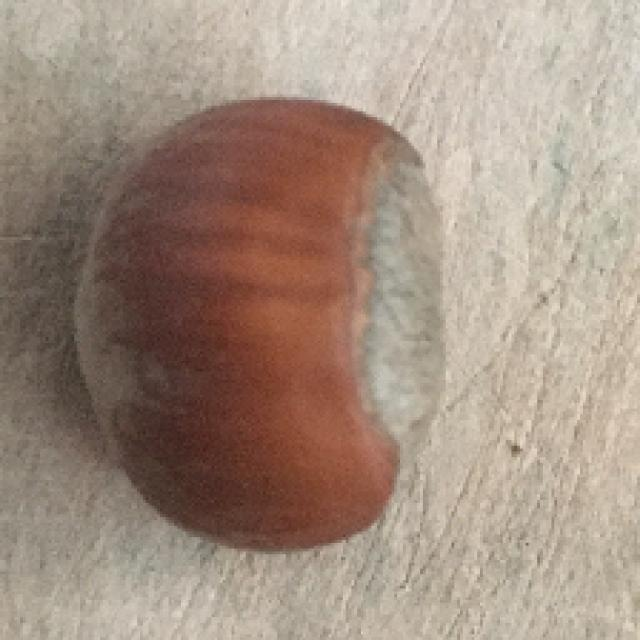qualityHazelnut: (70, 93, 444, 557)
